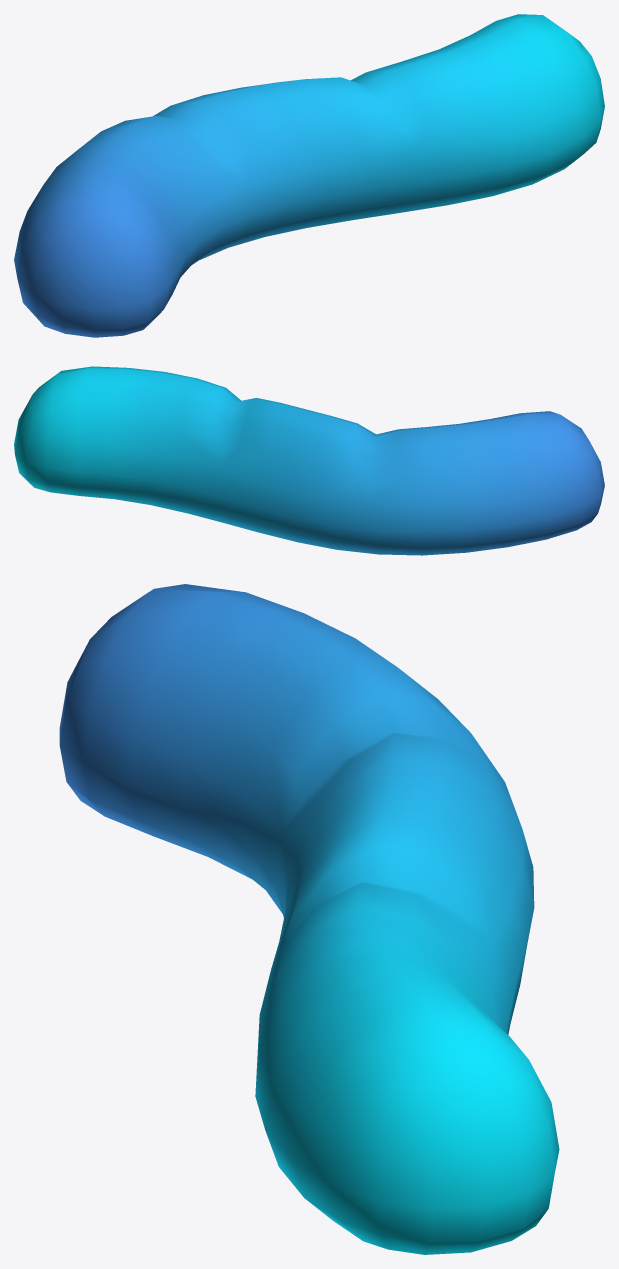
File: candy_glass_28.fbx
3 renders of one model, top to bottom at view 1: azimuth 30°, elevation 25°; view 2: azimuth 150°, elevation 25°; view 3: azimuth 270°, elevation 25°, orthographic. The views are drawn at different scales.
Parts seen in each view (by area): view 1: c_g_28; view 2: c_g_28; view 3: c_g_28.
Part boxes in pixels (box(x1,y1,x2,y2)): c_g_28: box(14, 14, 604, 337); c_g_28: box(14, 366, 604, 555); c_g_28: box(59, 584, 559, 1254).
Bounding box in the file's own units: 204 × 48.05 × 86.21.
